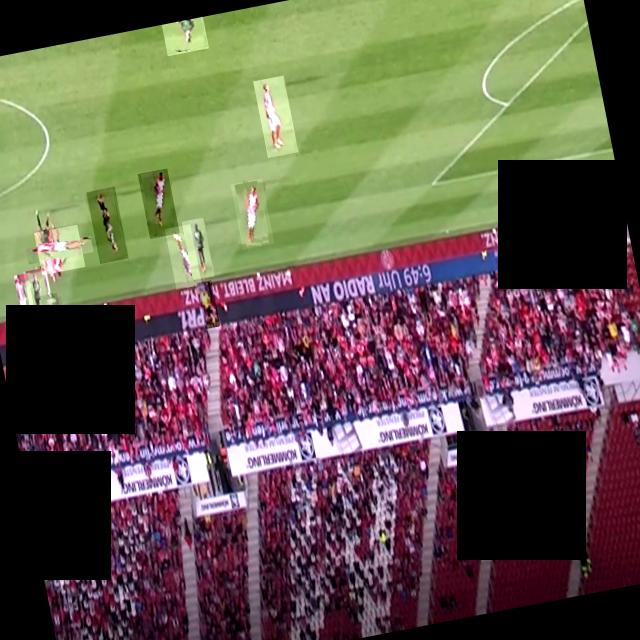ball: (40, 292, 60, 312)
referee: (197, 280, 220, 329)
soccer-player: (254, 76, 298, 158), (86, 187, 128, 264), (230, 178, 274, 250), (138, 168, 180, 239), (34, 224, 86, 276), (165, 224, 202, 290), (182, 218, 214, 280), (162, 17, 209, 56), (24, 268, 56, 320), (14, 273, 38, 328)
